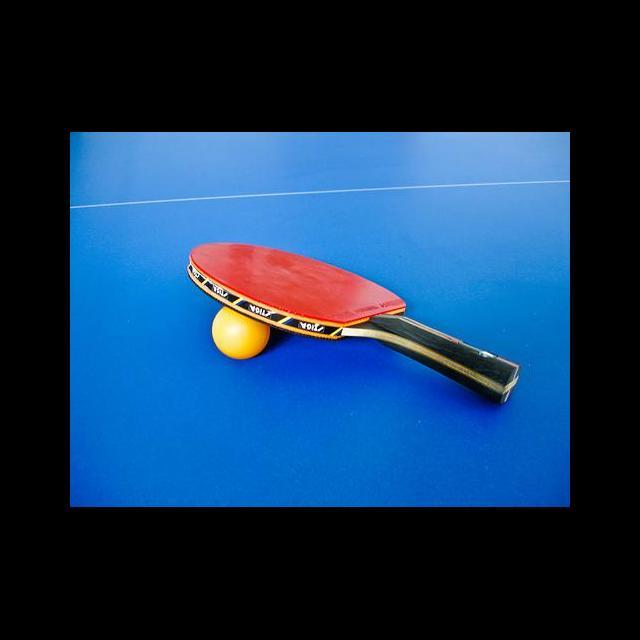ping-pong-ball: (212, 302, 272, 360)
